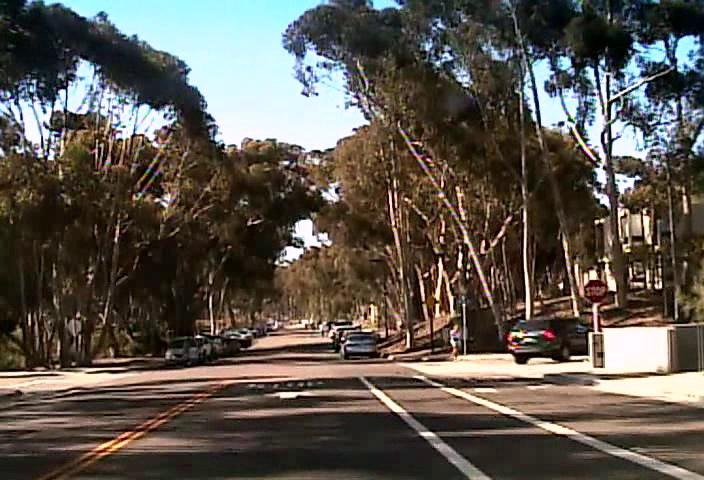stop: (583, 279, 608, 304)
